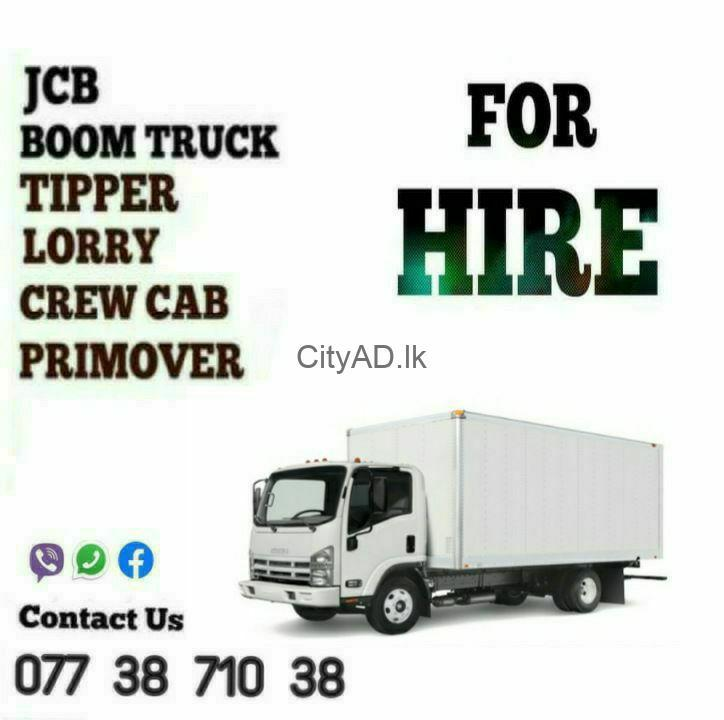truck: (236, 408, 667, 635)
